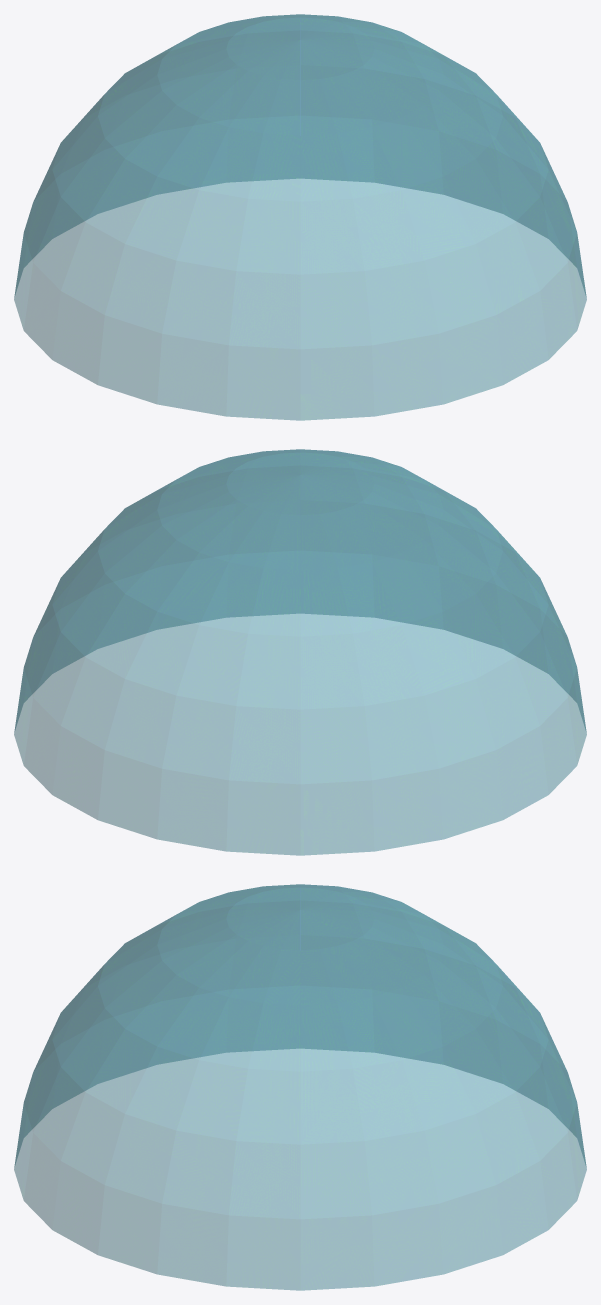
The model's file is green_25_opacity_dome.dae.
3 renders of one model, top to bottom at view 1: azimuth 30°, elevation 25°; view 2: azimuth 150°, elevation 25°; view 3: azimuth 270°, elevation 25°, orthographic.
Parts seen in each view (by area): view 1: Component1; view 2: Component1; view 3: Component1.
Part boxes in pixels (x1=…): Component1: x1=14, y1=14, x2=586, y2=420; Component1: x1=14, y1=449, x2=586, y2=855; Component1: x1=14, y1=884, x2=586, y2=1290.
Size of the model in its own units: 245371 by 245371 by 132150.
